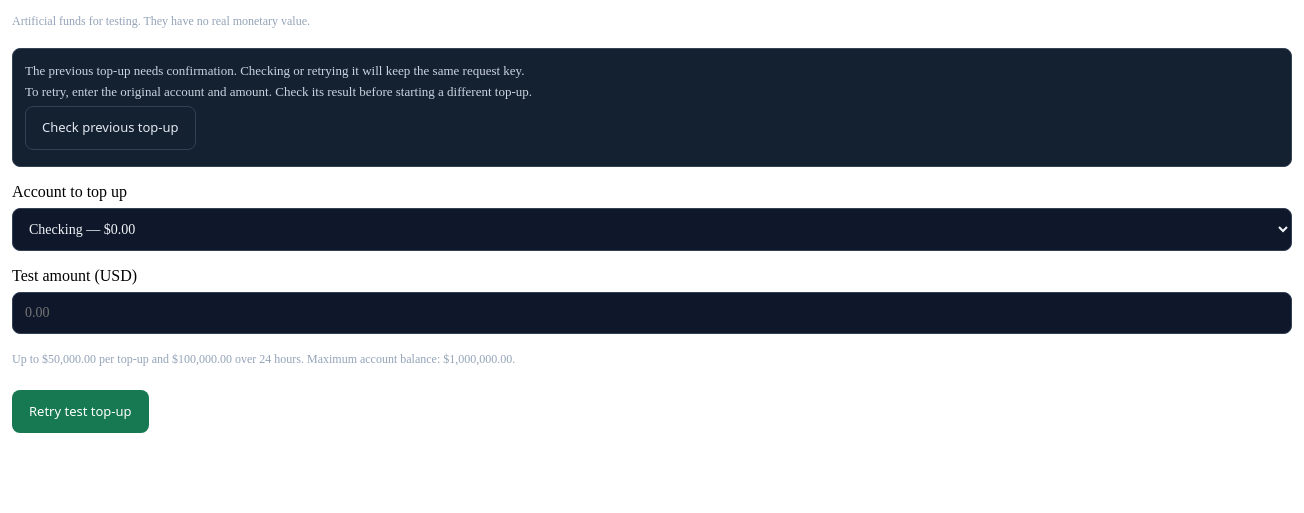
Test: keeps the original key for re-entered details when the server has no result yet
Click the button "Check previous top-up".
click(110, 128)  # box [25,106,196,150]
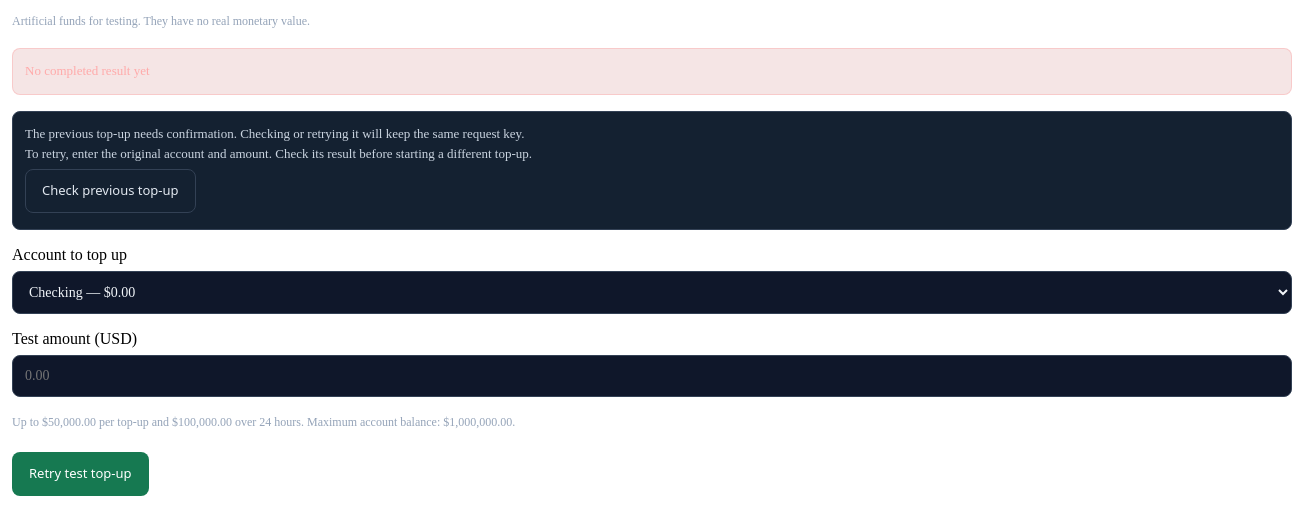
Now the text "No completed result yet" is shown, box [12,48,1292,95]
Type "19.99" into the field labelled "Test amount (USD)".
click(652, 376); type("19.99")  # box [12,355,1292,397]
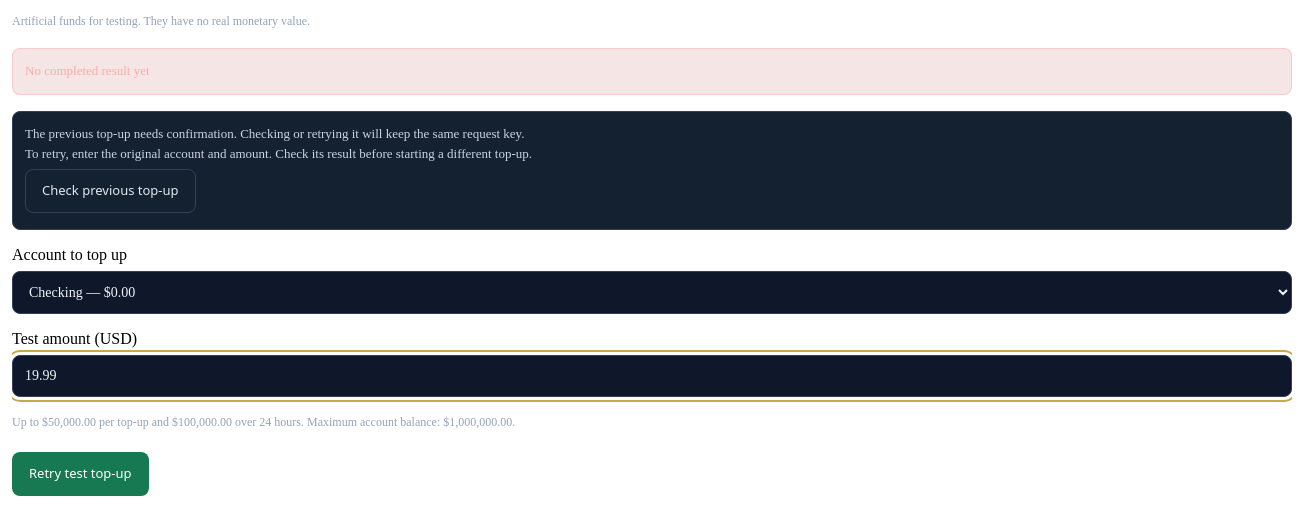
Click the button "Retry test top-up".
click(80, 474)  # box [12,452,149,496]
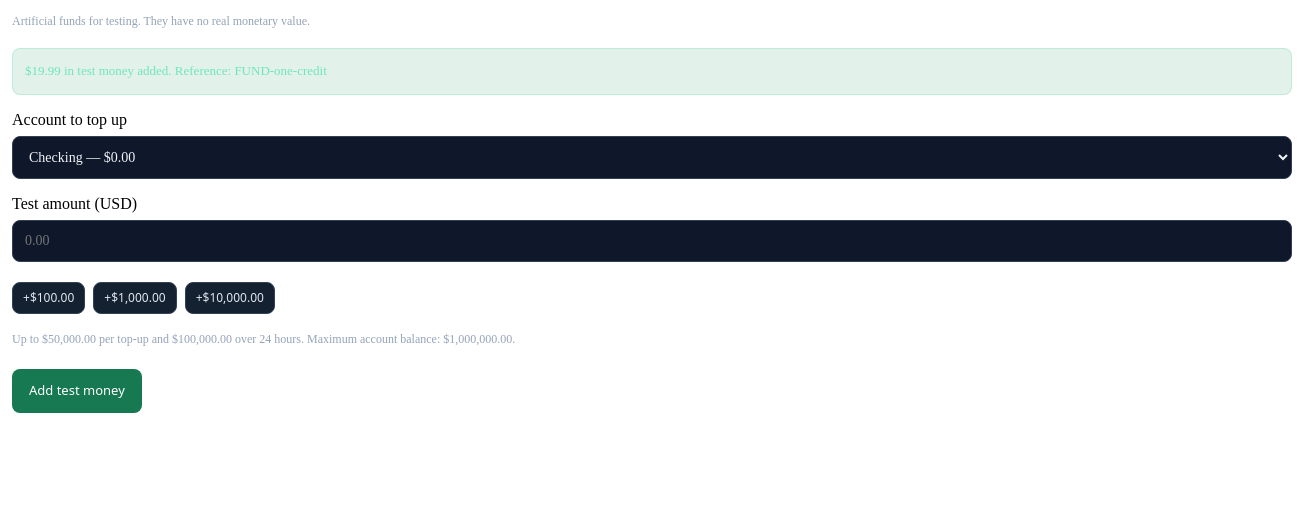
Now the text "$19.99 in test money added. Reference: FUND-one-credit" is shown, box [12,48,1292,95]
